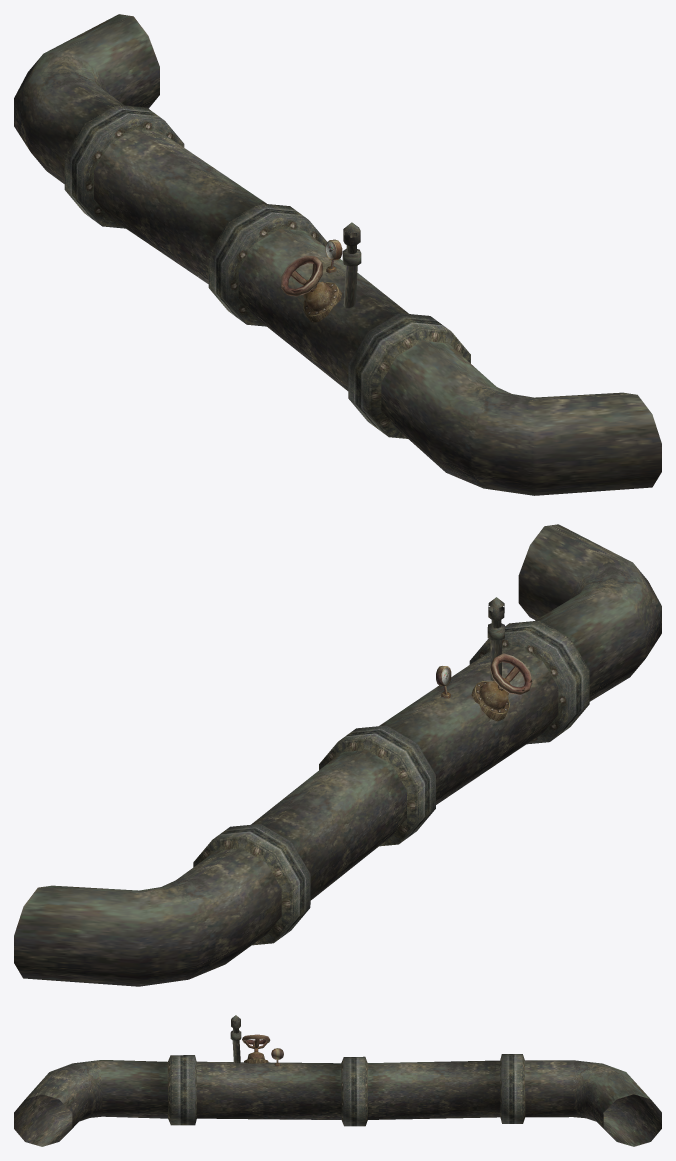
Rendered from S_Build_West022.FBX.
3 views of the same model, one above another, from view 1: azimuth 30°, elevation 25°; view 2: azimuth 150°, elevation 25°; view 3: azimuth 270°, elevation 25° (orthographic). The views are drawn at different scales.
Parts seen in each view (by area): view 1: S_Build_West022; view 2: S_Build_West022; view 3: S_Build_West022.
Part boxes in pixels (<box>): S_Build_West022: <box>14,14,661,495</box>; S_Build_West022: <box>14,524,661,986</box>; S_Build_West022: <box>14,1015,661,1146</box>.
Bounding box in the file's own units: 186 × 1029 × 183.
